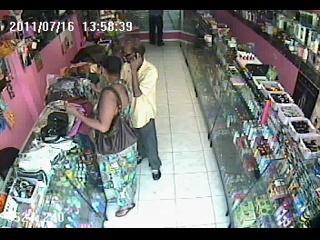Normal: (64, 55, 139, 218), (121, 44, 162, 180), (148, 10, 165, 46)
